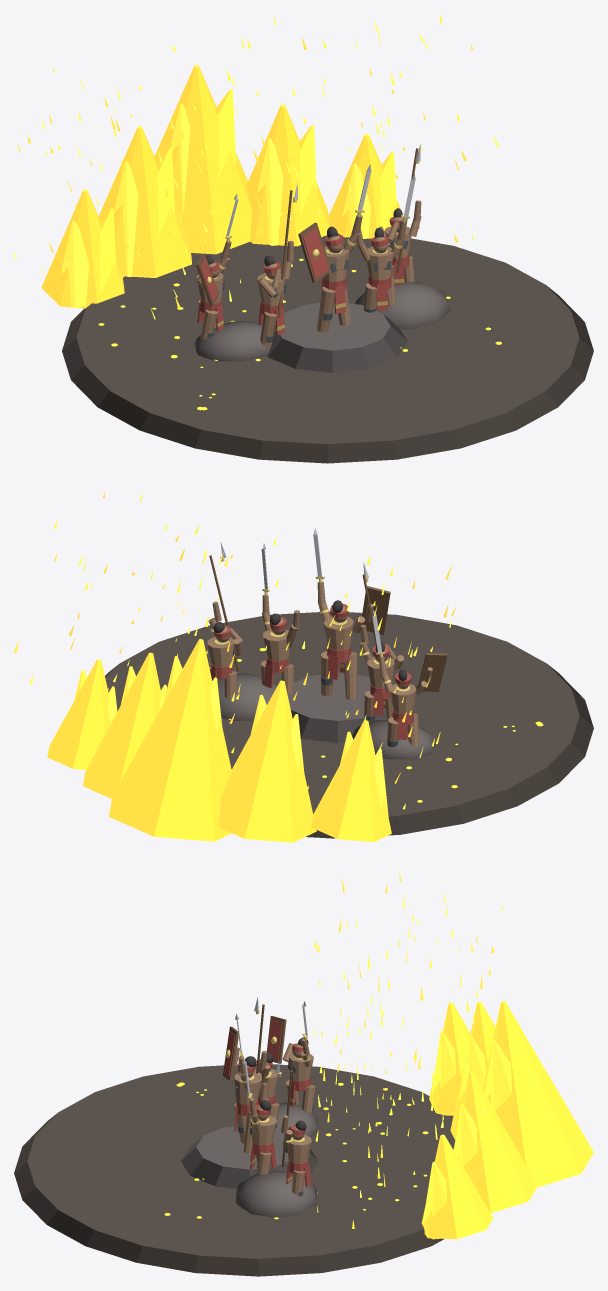
The model's file is village rally.gltf.
3 renders of one model, top to bottom at view 1: azimuth 30°, elevation 25°; view 2: azimuth 150°, elevation 25°; view 3: azimuth 270°, elevation 25°, orthographic. The views are drawn at different scales.
Visible parts, largest first — view 1: Battlefield_Terrain, Background_Fire_And_Falling_Sparks, Ancient_Bikolano_Warriors, Warriors_Weapons_And_Gold; view 2: Battlefield_Terrain, Background_Fire_And_Falling_Sparks, Ancient_Bikolano_Warriors, Warriors_Weapons_And_Gold; view 3: Battlefield_Terrain, Background_Fire_And_Falling_Sparks, Ancient_Bikolano_Warriors, Warriors_Weapons_And_Gold.
Part boxes in pixels (x1,y1,x2,y2): Battlefield_Terrain: (62, 233, 593, 463); Background_Fire_And_Falling_Sparks: (14, 14, 501, 410); Ancient_Bikolano_Warriors: (196, 148, 421, 347); Warriors_Weapons_And_Gold: (207, 144, 420, 284); Battlefield_Terrain: (105, 611, 593, 838); Background_Fire_And_Falling_Sparks: (14, 492, 543, 842); Ancient_Bikolano_Warriors: (207, 555, 447, 747); Warriors_Weapons_And_Gold: (210, 528, 410, 691); Battlefield_Terrain: (14, 1064, 455, 1276); Background_Fire_And_Falling_Sparks: (164, 871, 593, 1239); Ancient_Bikolano_Warriors: (222, 1004, 315, 1196); Warriors_Weapons_And_Gold: (226, 997, 309, 1143).
Size of the model in its own units: 11 by 5.64 by 13.04.
